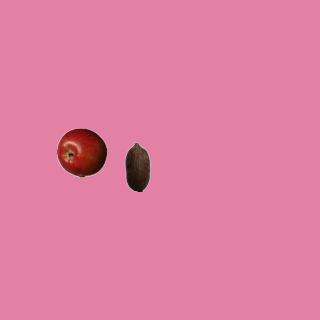Apple Braeburn: (56, 127, 106, 177)
Nut Pecan: (112, 141, 162, 191)
